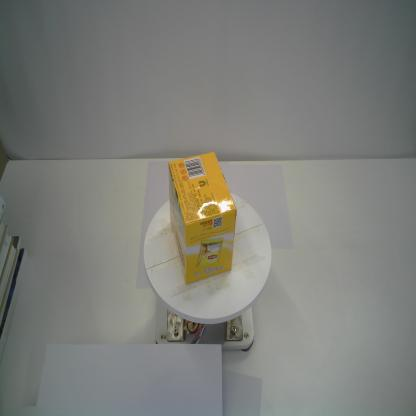Instant Drink: (167, 151, 239, 285)
